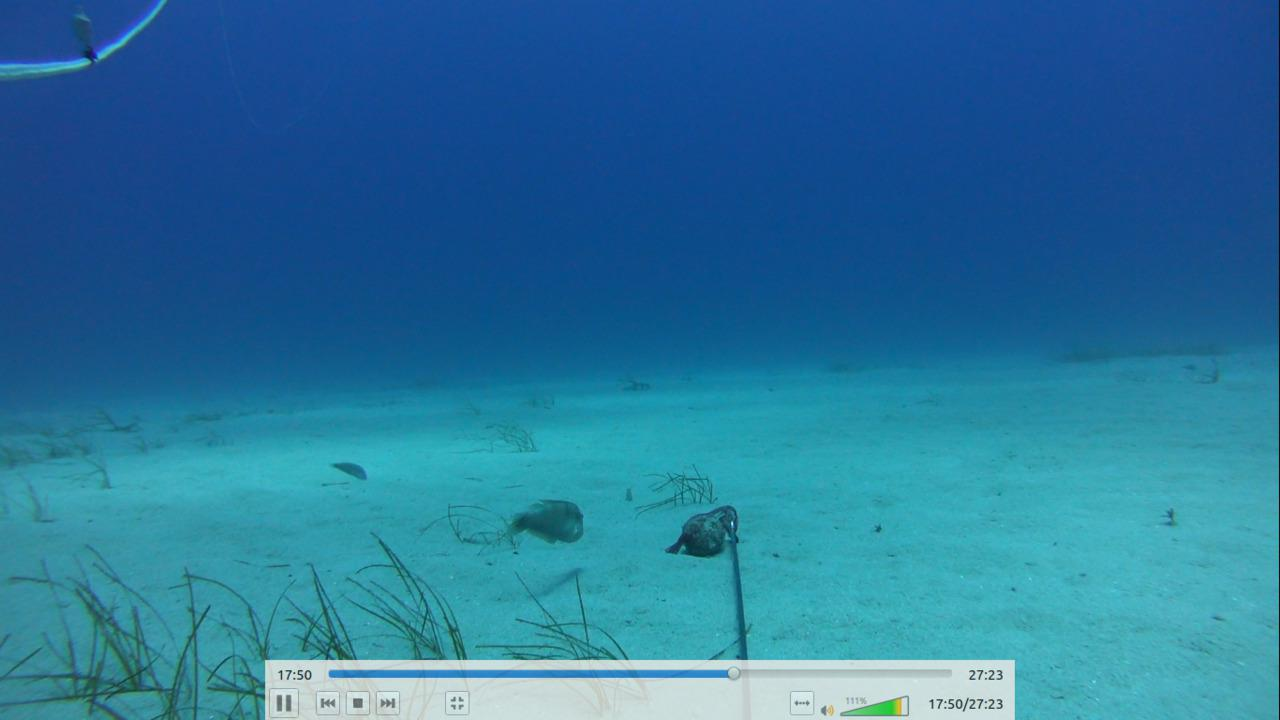raor: (497, 493, 588, 546), (324, 458, 373, 485)
